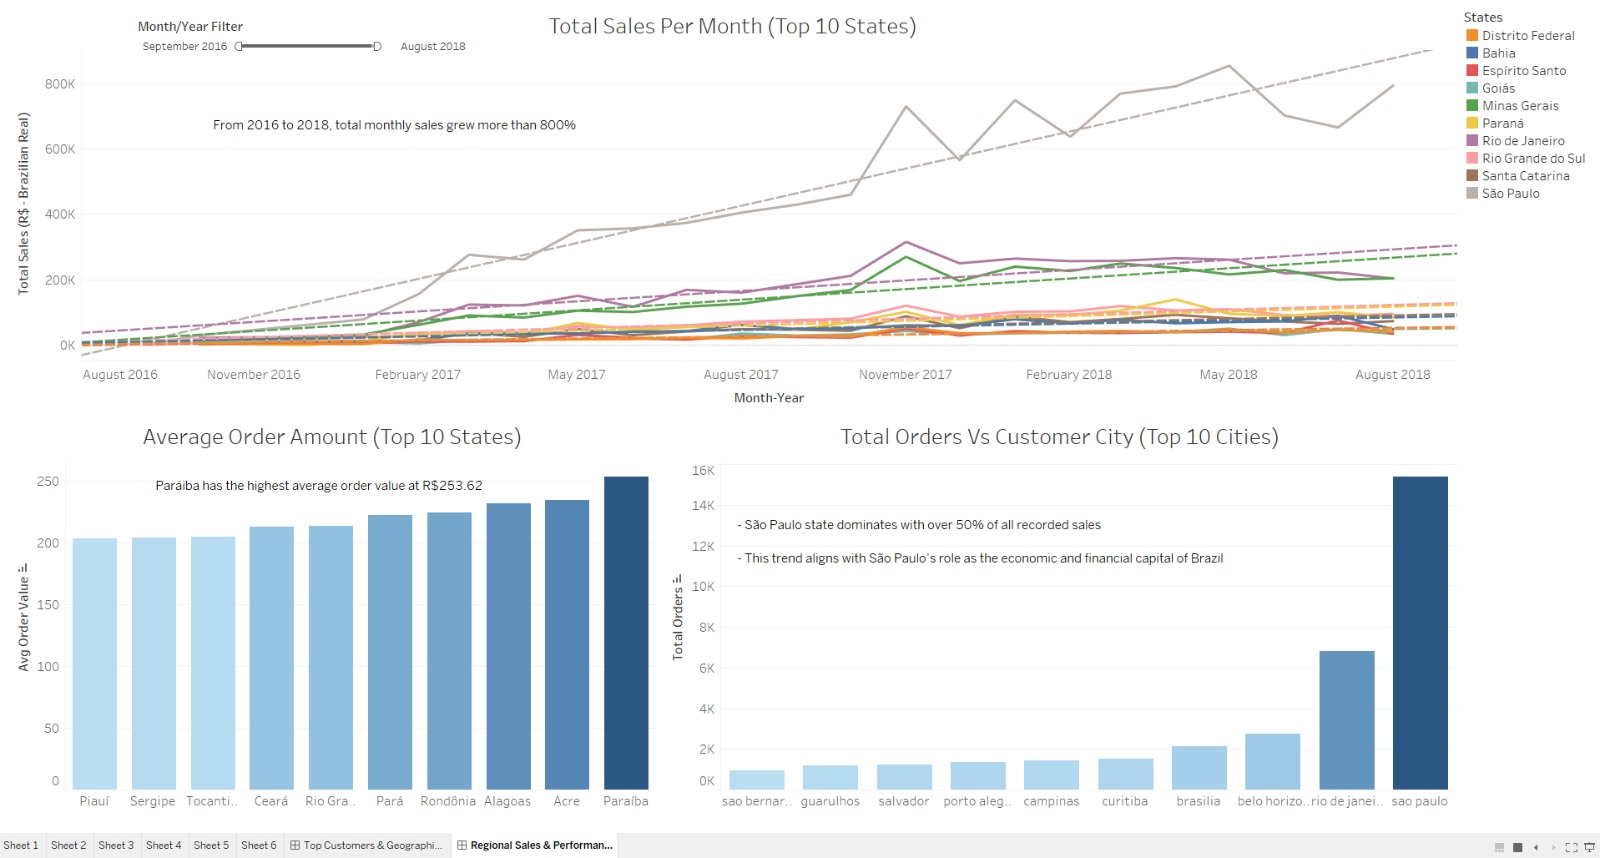

The dashboard page shown, as its layout file describes it:
{"tool":"tableau","page":{"name":"Regional Sales & Performance Trends","canvas":[1000,1000],"units":"permille","ordinal":0},"visuals":[{"type":"worksheet","title":"Sheet 4","mark":"Automatic","rows":["total_sales"],"cols":["order_month"],"box":[4.8,9.6,894.6,490.4]},{"type":"legend","title":"Sheet 4","param":"[federated.01xddyf0nhunqm18z791819sfcu9].[none:Calculation_161285164043079681:nk","box":[899.3,9.6,95.9,288.1]},{"type":"filter","title":"Sheet 4","param":"[federated.01xddyf0nhunqm18z791819sfcu9].[tmn:order_month:qk]","box":[86.9,22.8,214.5,81.6]},{"type":"text","box":[132.4,128.4,321.8,45.6]},{"type":"worksheet","title":"Sheet 5","mark":"Automatic","rows":["avg_order_value"],"cols":["Calculation_161285164049784834"],"box":[4.8,500,401.9,490.4]},{"type":"worksheet","title":"Sheet 6","mark":"Automatic","rows":["total_orders"],"cols":["customer_city (sales_overview.csv)"],"box":[406.7,500,492.7,490.4]},{"type":"text","box":[96.5,565.4,239.1,36]},{"type":"text","box":[459.6,612.2,358.9,76.8]}]}

Visuals, with their boxes on the dashboard's canvas, which has no fixed pixel size, in thousandths of its width and height (x1, y1, x2, y2). These are canvas units, not pixel positions in the 1600x858 screenshot, which may show the page scaled, cropped or inside an application window:
"Sheet 4" worksheet: select_region(5, 10, 899, 500)
"Sheet 4" legend: select_region(899, 10, 995, 298)
"Sheet 4" filter: select_region(87, 23, 301, 104)
text: select_region(132, 128, 454, 174)
"Sheet 5" worksheet: select_region(5, 500, 407, 990)
"Sheet 6" worksheet: select_region(407, 500, 899, 990)
text: select_region(96, 565, 336, 601)
text: select_region(460, 612, 818, 689)
